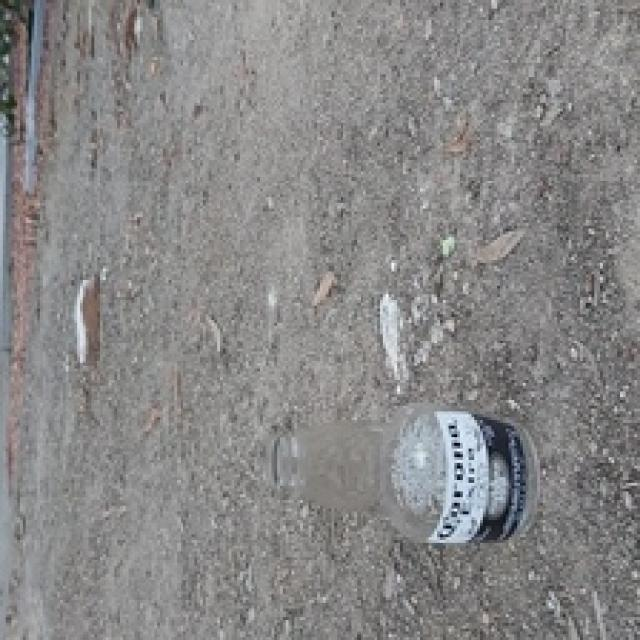Glass: (272, 411, 534, 550)
